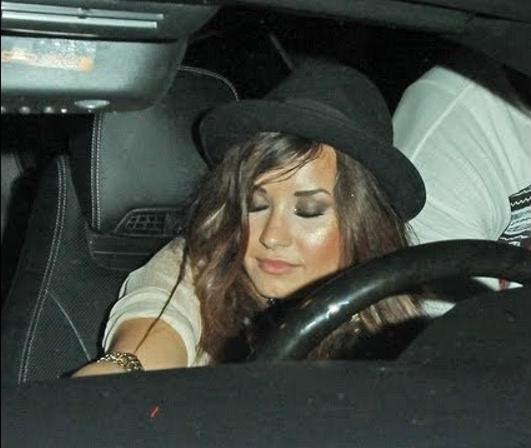Drunk: (244, 144, 339, 288)
